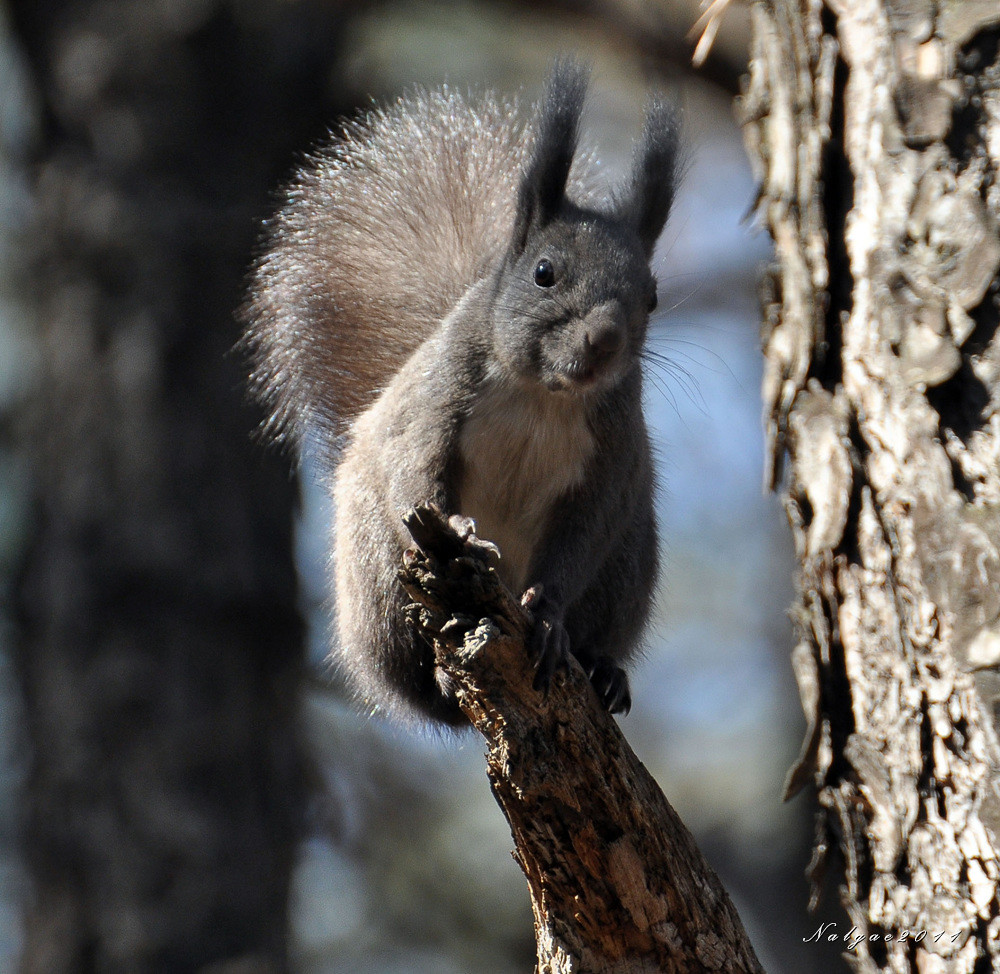chungseolmo: (264, 55, 694, 731)
